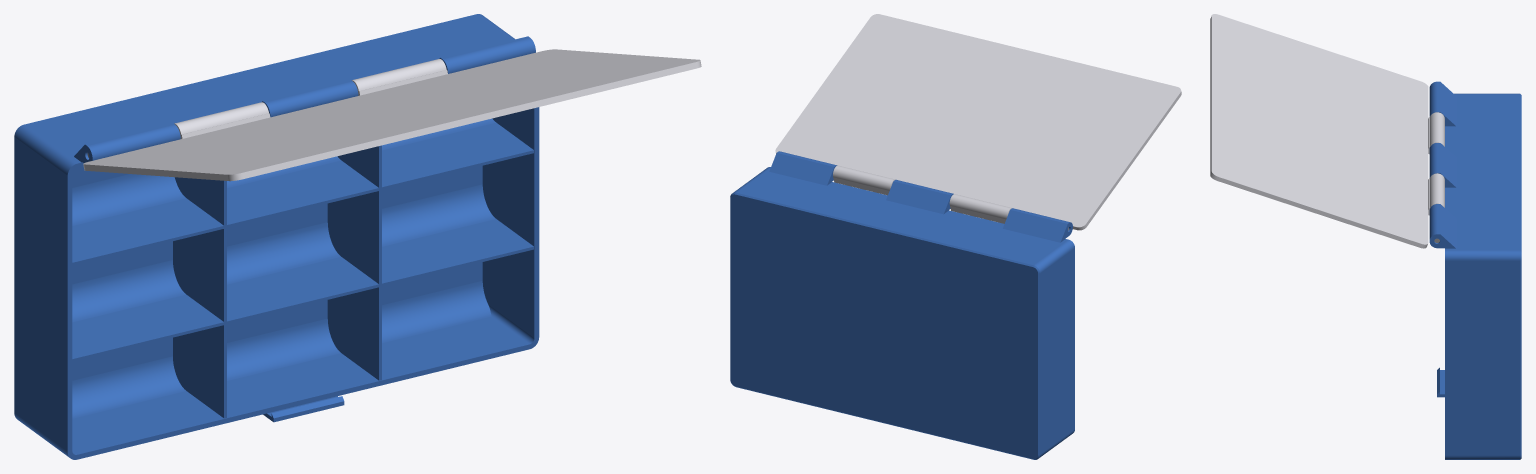
The model's file is variant-COLS_3-ROWS_3.glb.
The picture shows the model from 3 angles, left to right: view 1: azimuth 30°, elevation 25°; view 2: azimuth 150°, elevation 25°; view 3: azimuth 270°, elevation 25°; orthographic projection. The views are drawn at different scales.
Visible parts, largest first — view 1: 0:Kasten, 1:Deckel; view 2: 0:Kasten, 1:Deckel; view 3: 1:Deckel, 0:Kasten.
Part boxes in pixels (box(x1,y1,x2,y2)): 0:Kasten: box(14, 14, 539, 459); 1:Deckel: box(83, 49, 701, 181); 0:Kasten: box(730, 151, 1074, 459); 1:Deckel: box(775, 14, 1181, 230); 1:Deckel: box(1210, 14, 1444, 248); 0:Kasten: box(1429, 81, 1521, 459).
Size of the model in its own units: 200 by 167 by 162.
